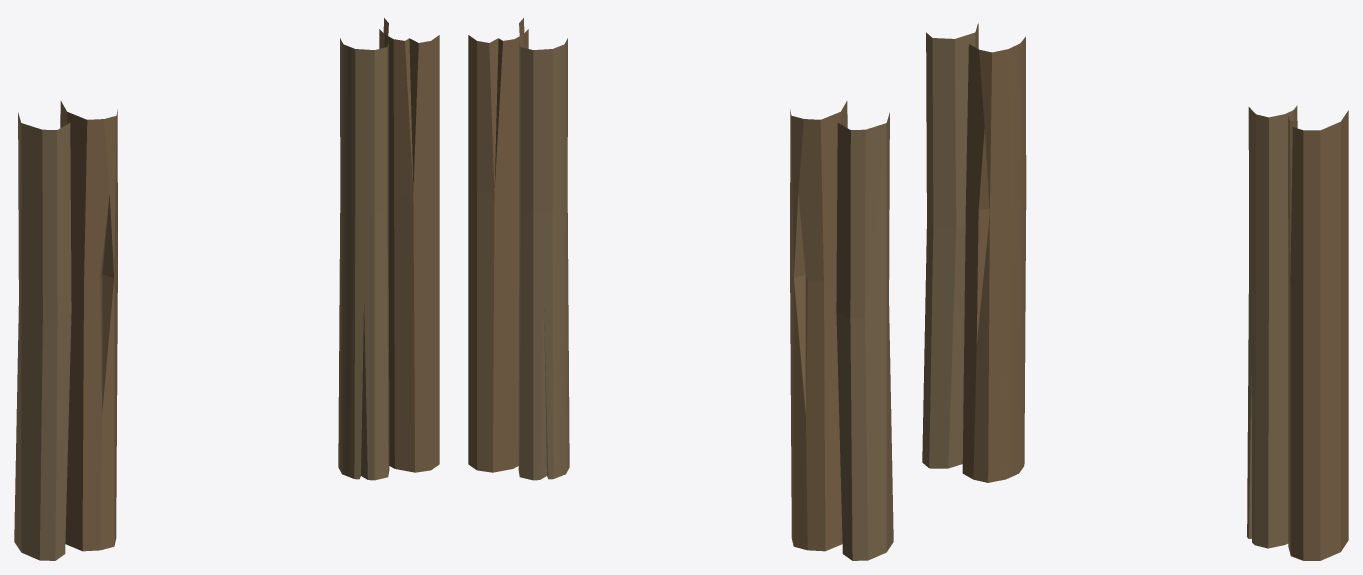
The model's file is rpgpp_av_wall_04_3x3_door_a.gltf.
3 views of the same model, side by side, from view 1: azimuth 30°, elevation 25°; view 2: azimuth 150°, elevation 25°; view 3: azimuth 330°, elevation 25° (orthographic).
Visible parts, largest first — view 1: rpgpp_av_wall_04_3x3_door_a; view 2: rpgpp_av_wall_04_3x3_door_a; view 3: rpgpp_av_wall_04_3x3_door_a.
Boxes of the visible parts, x1=… form: rpgpp_av_wall_04_3x3_door_a: x1=14, y1=18, x2=439, y2=560; rpgpp_av_wall_04_3x3_door_a: x1=468, y1=18, x2=893, y2=560; rpgpp_av_wall_04_3x3_door_a: x1=922, y1=23, x2=1348, y2=560.
Size of the model in its own units: 0.03 by 0.03 by 0.00463.
Materials: 1 (1 with a texture image).
